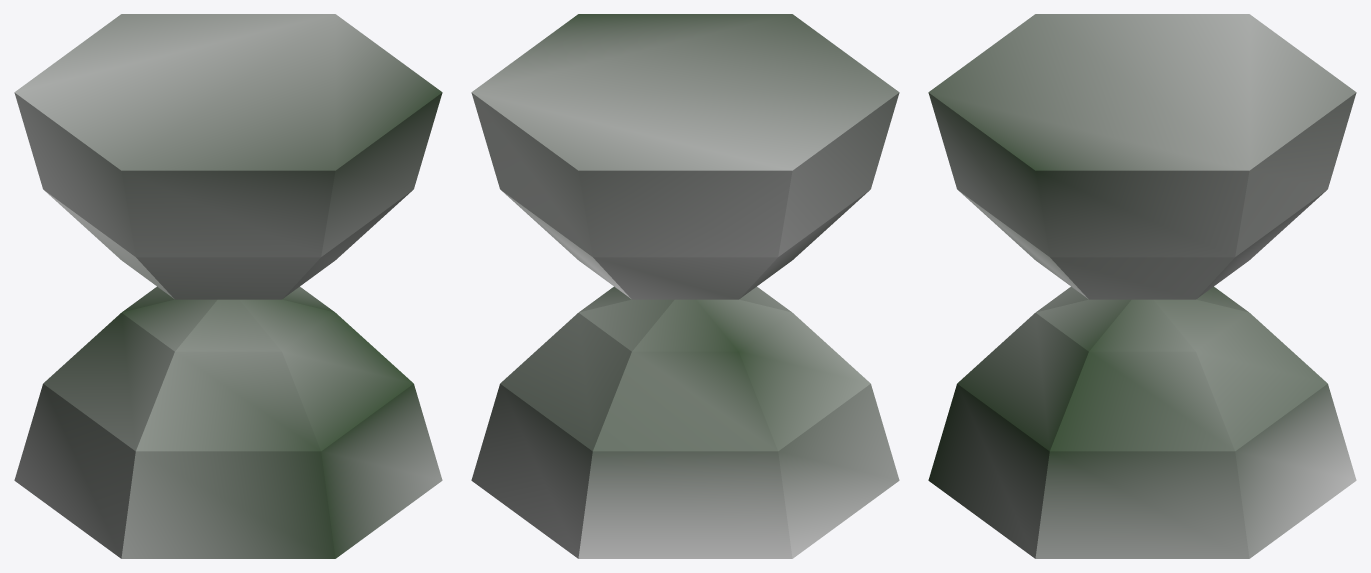
Rendered from ruin_02.fbx.
3 renders of one model, left to right at view 1: azimuth 30°, elevation 25°; view 2: azimuth 150°, elevation 25°; view 3: azimuth 270°, elevation 25°, orthographic.
Parts seen in each view (by area): view 1: Ruin_02; view 2: Ruin_02; view 3: Ruin_02.
Part boxes in pixels (<box>): Ruin_02: <box>14,14,442,558</box>; Ruin_02: <box>471,14,899,558</box>; Ruin_02: <box>928,14,1356,558</box>.
Size of the model in its own units: 17321 by 20010 by 20000.
